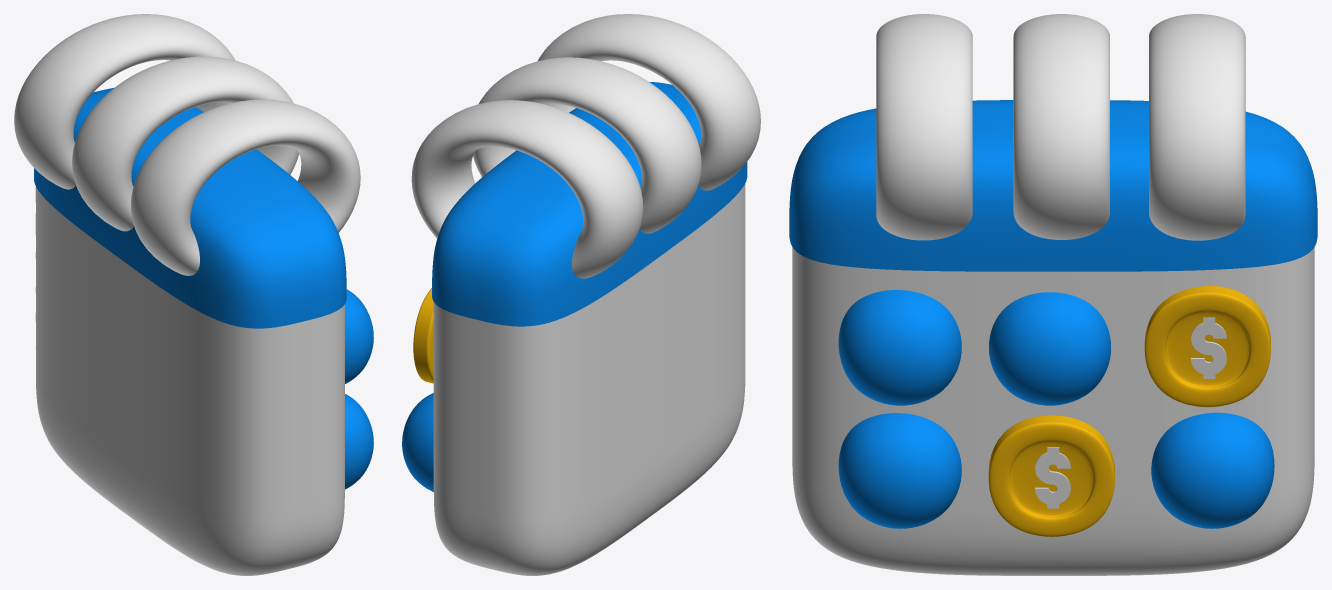
The model's file is financial-calendar-6507817-0.fbx.
3 renders of one model, left to right at view 1: azimuth 30°, elevation 25°; view 2: azimuth 150°, elevation 25°; view 3: azimuth 270°, elevation 25°, orthographic. The views are drawn at different scales.
Parts seen in each view (by area): view 1: Cube, Cube.001, Torus.002, Torus.001, Torus.003, Cube.002, Cube.005; view 2: Cube, Cube.001, Torus.003, Torus.001, Torus.002, Cube.007, Cube.008; view 3: Cube, Cube.001, Torus.003, Torus.002, Torus.001, Cube.007, Cube.002, Cube.005, Cube.003, Cube.008, Cube.006, Text.001 (+1 smaller).
Part boxes in pixels (bbox=[...]): Cube: bbox=[35, 186, 344, 575]; Cube.001: bbox=[34, 88, 346, 328]; Torus.002: bbox=[131, 99, 360, 275]; Torus.001: bbox=[72, 56, 299, 231]; Torus.003: bbox=[14, 14, 235, 189]; Cube.002: bbox=[345, 394, 373, 489]; Cube.005: bbox=[345, 289, 373, 383]; Cube: bbox=[433, 184, 745, 575]; Cube.001: bbox=[432, 82, 747, 326]; Torus.003: bbox=[411, 100, 643, 278]; Torus.001: bbox=[473, 57, 701, 233]; Torus.002: bbox=[538, 14, 760, 190]; Cube.007: bbox=[402, 393, 433, 491]; Cube.008: bbox=[413, 288, 433, 383]; Cube: bbox=[792, 247, 1314, 575]; Cube.001: bbox=[789, 100, 1317, 271]; Torus.003: bbox=[1149, 14, 1245, 240]; Torus.002: bbox=[876, 14, 972, 240]; Torus.001: bbox=[1013, 14, 1109, 239]; Cube.007: bbox=[1151, 412, 1274, 528]; Cube.002: bbox=[838, 413, 961, 528]; Cube.005: bbox=[838, 290, 961, 405]; Cube.003: bbox=[988, 415, 1114, 536]; Cube.008: bbox=[1144, 286, 1270, 407]; Cube.006: bbox=[989, 292, 1110, 405]; Text.001: bbox=[1035, 447, 1070, 508].
Bounding box in the file's own units: 351 × 697 × 637.
